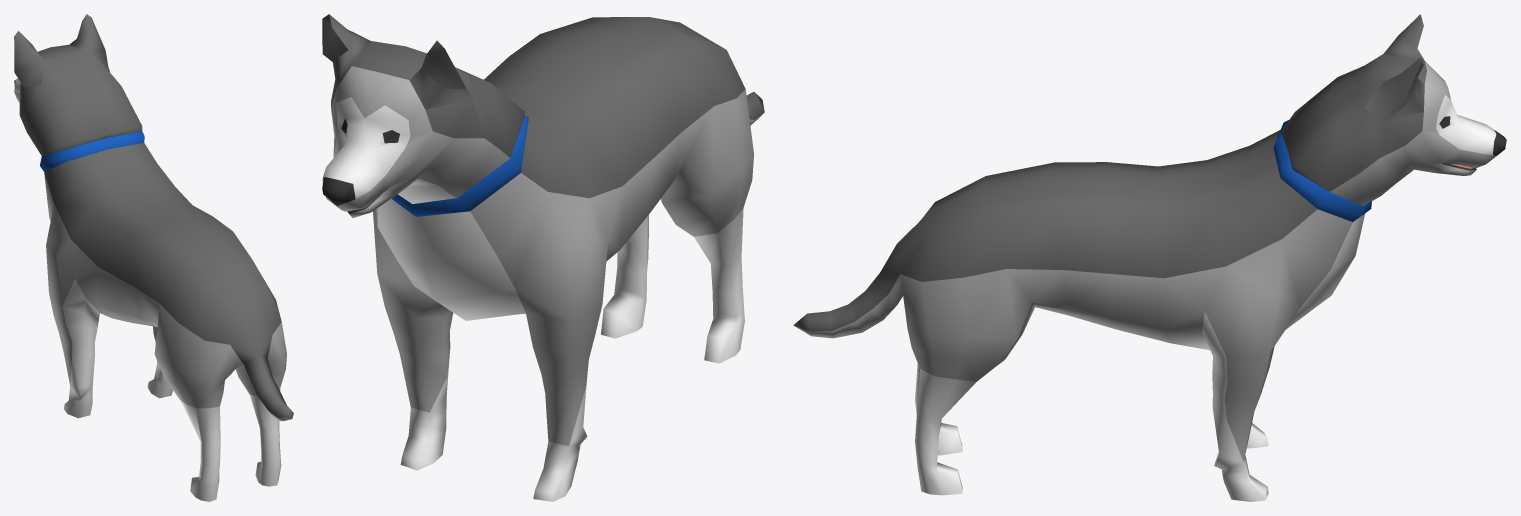
Rendered from 20240304_145819_dog.glb.
The picture shows the model from 3 angles, left to right: view 1: azimuth 30°, elevation 25°; view 2: azimuth 150°, elevation 25°; view 3: azimuth 270°, elevation 25°; orthographic projection. The views are drawn at different scales.
Parts seen in each view (by area): view 1: dog; view 2: dog; view 3: dog.
Part boxes in pixels (bbox=[...]): dog: bbox=[14, 14, 293, 501]; dog: bbox=[322, 14, 764, 501]; dog: bbox=[793, 14, 1506, 501].
Bounding box in the file's own units: 0.7945 × 1.96 × 2.91.
1 material, 1 textured.
